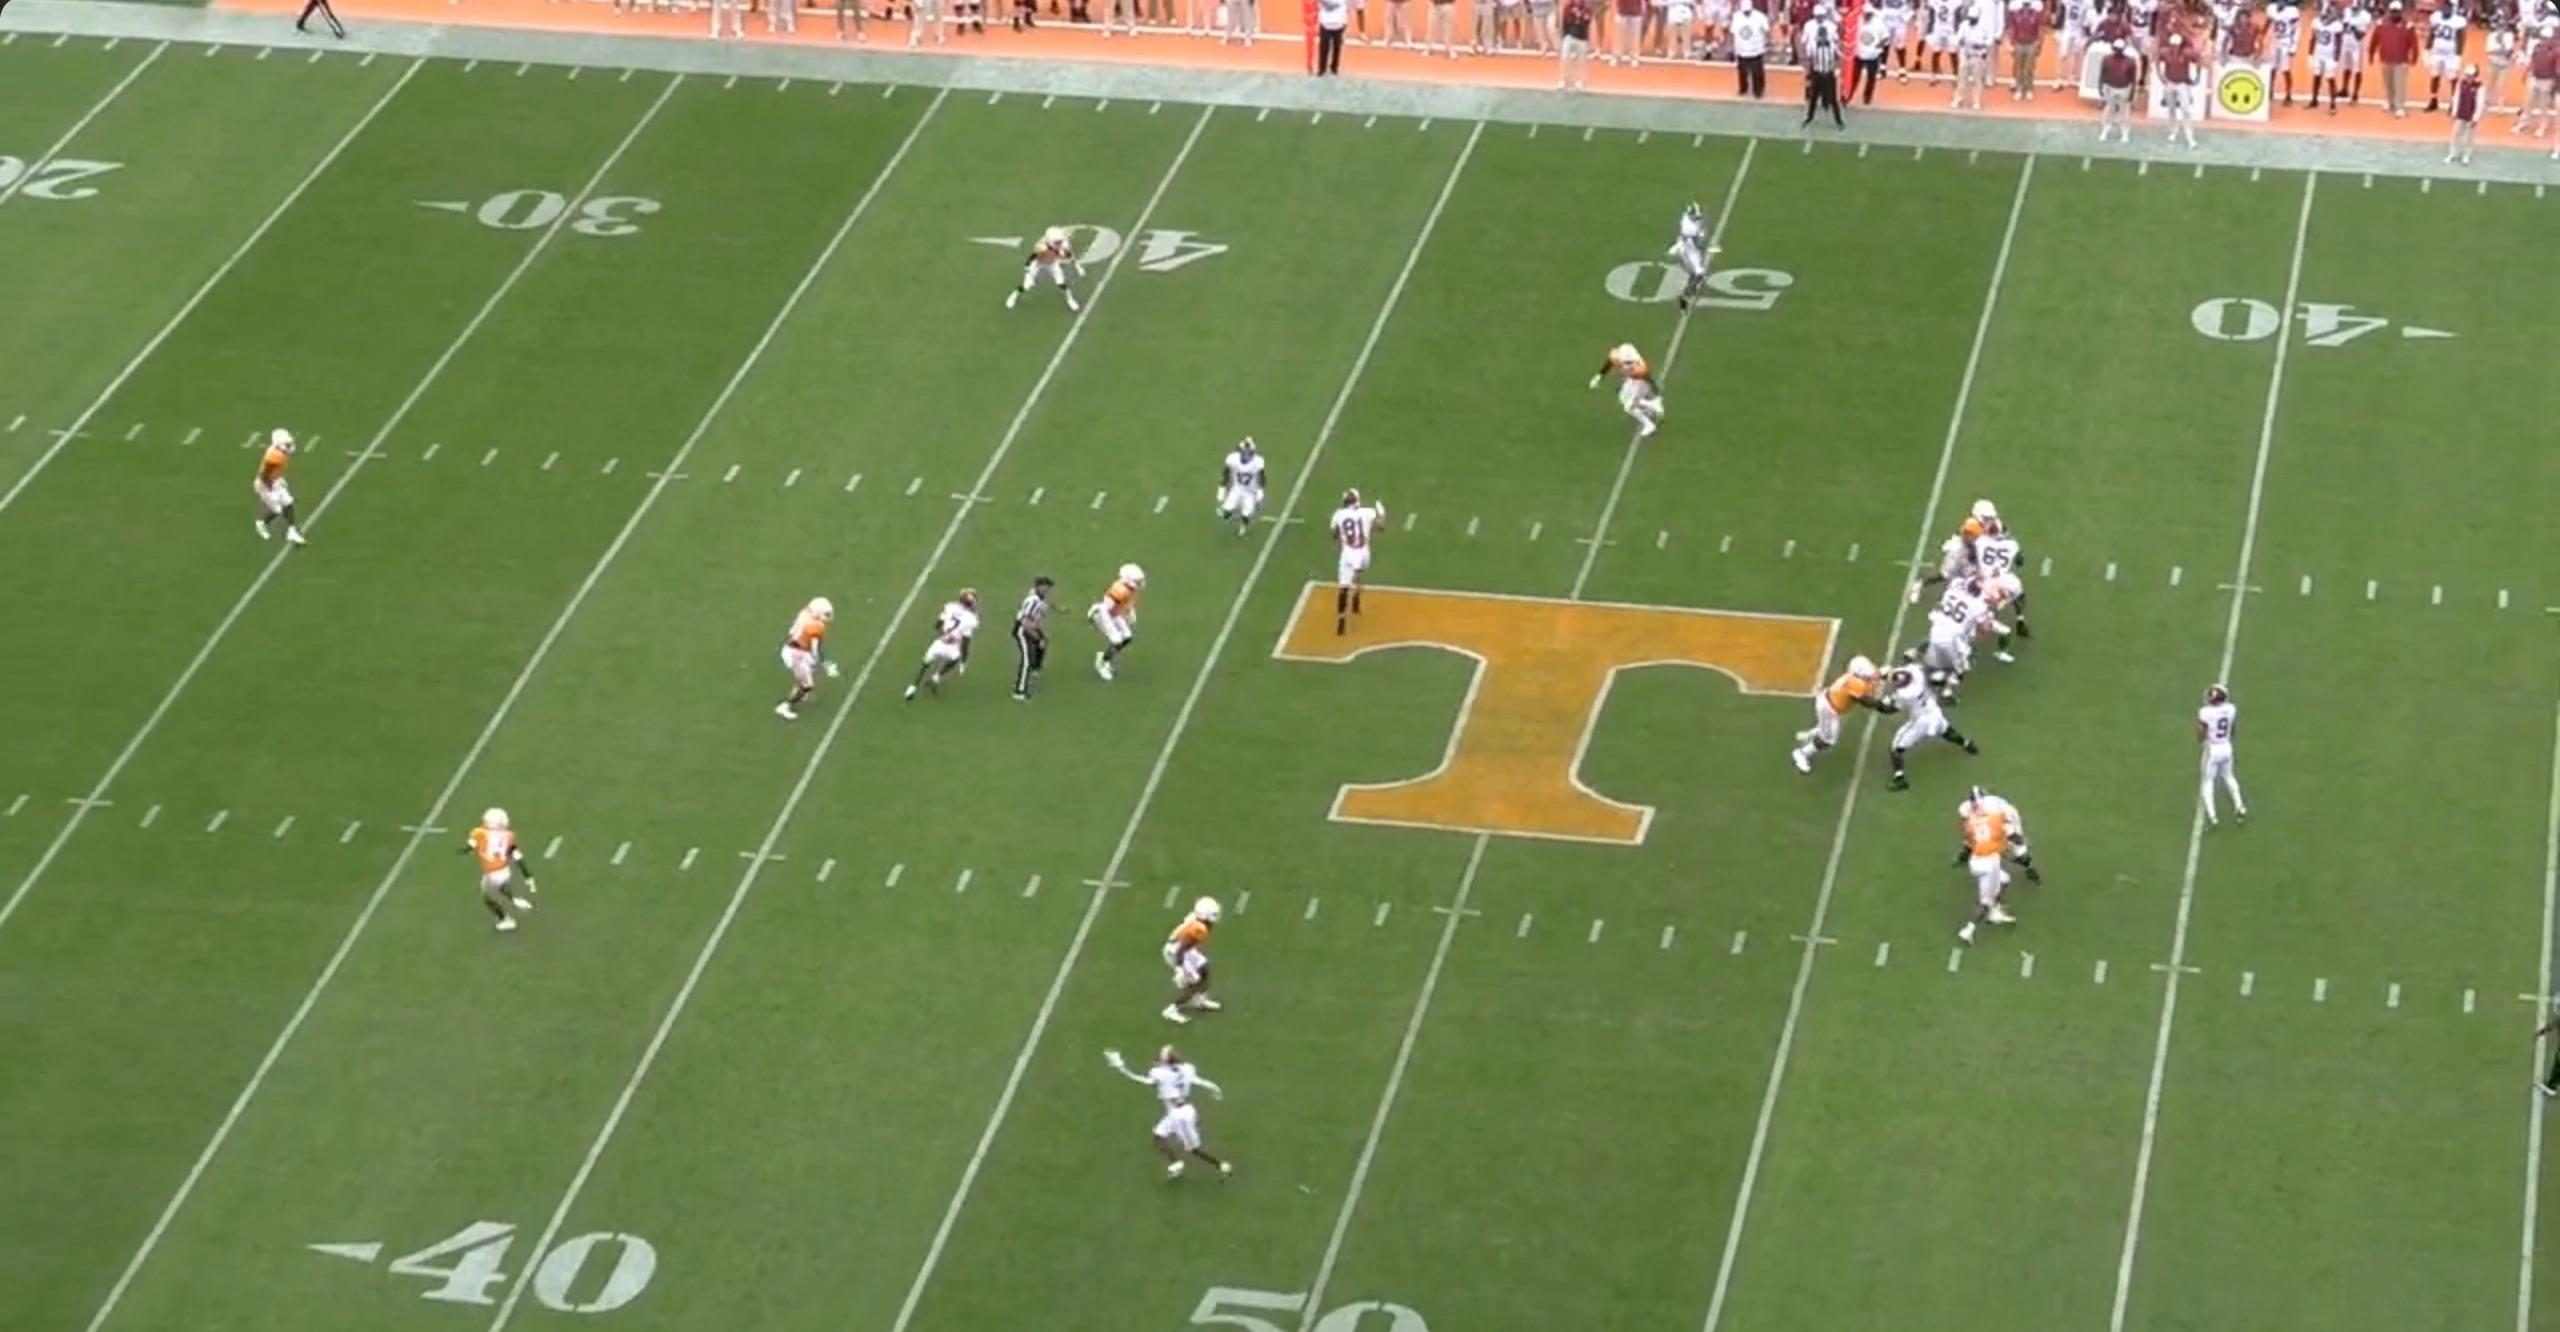player: (1865, 658, 1982, 795), (1136, 1040, 1233, 1186), (1780, 656, 1884, 784), (1921, 572, 2007, 706), (2180, 676, 2255, 827), (1955, 793, 2025, 951), (472, 796, 549, 935), (896, 588, 984, 708), (1951, 782, 2044, 890), (759, 596, 830, 732), (1153, 887, 1221, 1026), (1313, 488, 1377, 634), (998, 221, 1084, 323), (1094, 556, 1160, 683), (240, 430, 303, 559), (1586, 339, 1665, 441), (1662, 201, 1724, 309), (1211, 433, 1272, 538), (1968, 568, 2030, 669), (1959, 497, 2009, 567), (1966, 520, 2022, 572)
ref: (999, 577, 1057, 711), (1798, 14, 1860, 137), (280, 2, 348, 48)
